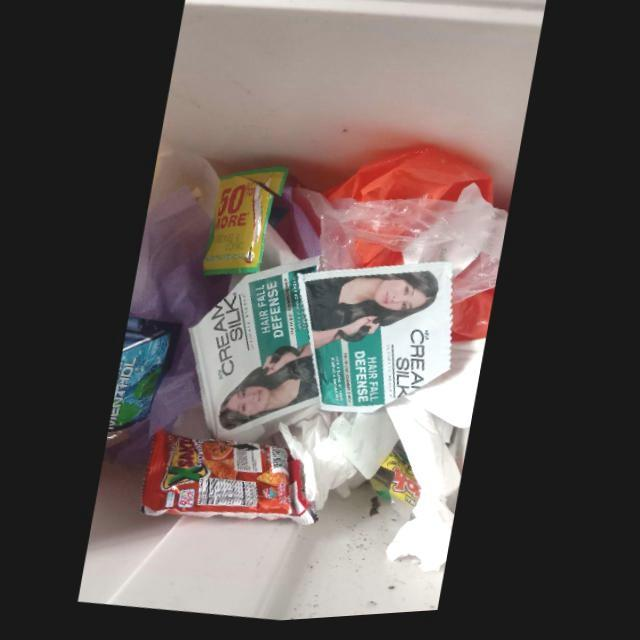food_wrapper: (143, 432, 322, 530)
plastic_sachet: (299, 266, 457, 418), (192, 260, 322, 441), (205, 170, 291, 278), (111, 318, 175, 434)
